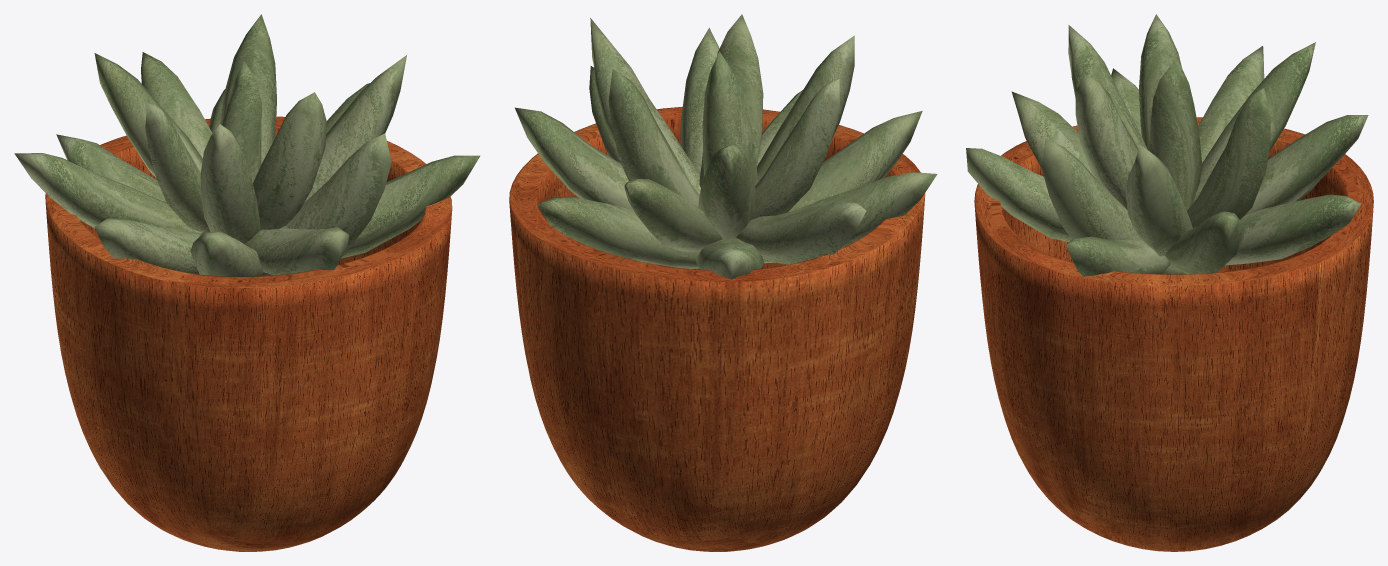
Rendered from ECHEVERIA_AMOENA_WOODEN_POT.glb.
3 views of the same model, side by side, from view 1: azimuth 30°, elevation 25°; view 2: azimuth 150°, elevation 25°; view 3: azimuth 270°, elevation 25° (orthographic). The views are drawn at different scales.
Visible parts, largest first — view 1: Cube, GA_cactus; view 2: Cube, GA_cactus; view 3: Cube, GA_cactus.
Part boxes in pixels (x1,y1,x2,y2): Cube: (45, 116, 452, 551); GA_cactus: (14, 14, 480, 276); Cube: (509, 107, 925, 551); GA_cactus: (515, 14, 937, 279); Cube: (974, 117, 1373, 551); GA_cactus: (966, 14, 1368, 276).
Size of the model in its own units: 0.9795 by 1.21 by 0.9386.
2 materials, 2 textured.
